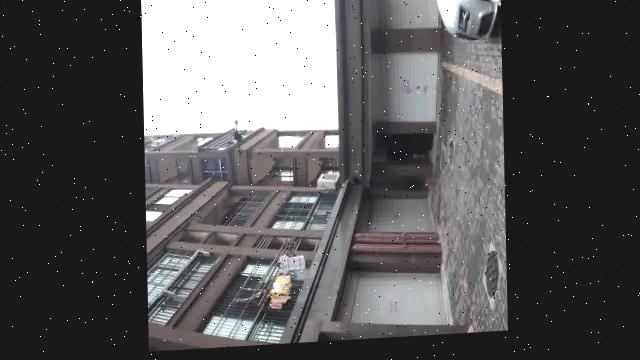drone: (224, 116, 250, 163)
